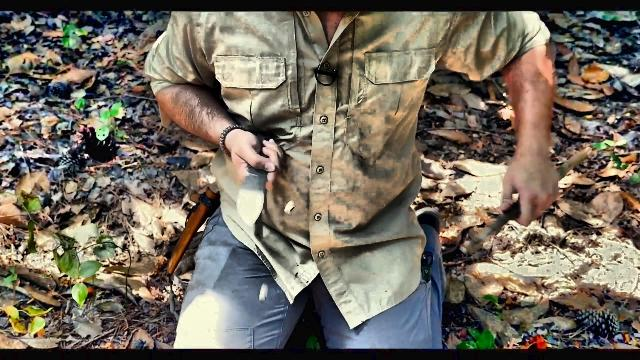knife: (229, 135, 283, 231)
